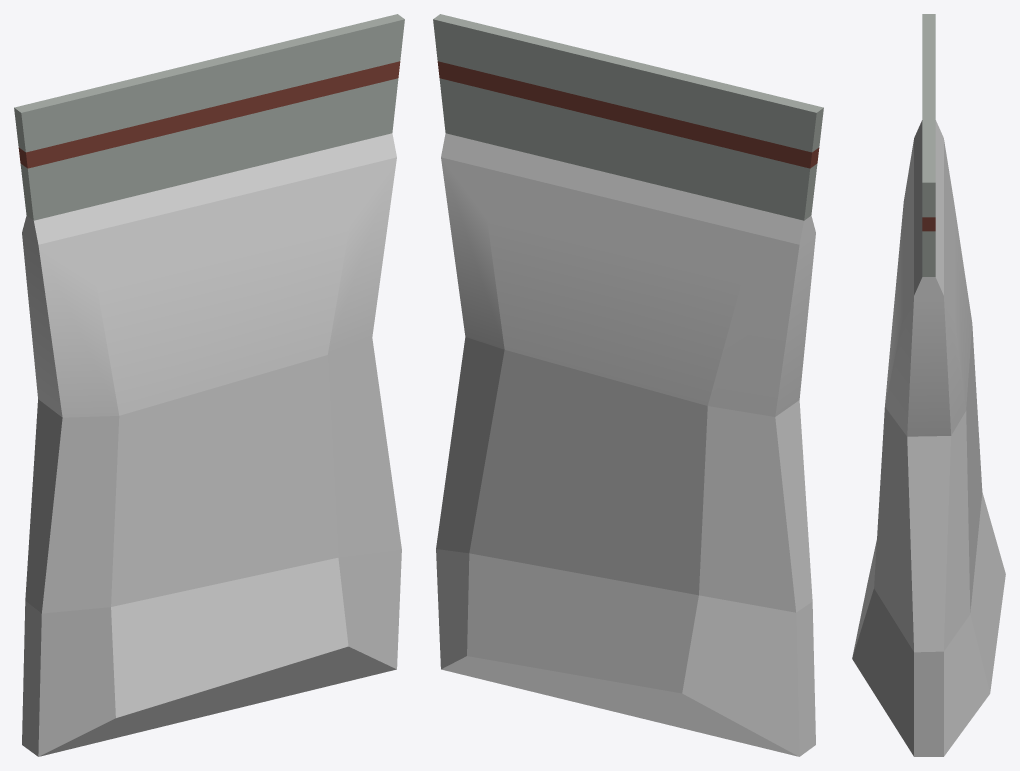
File: SM_Prop_Evidence_Bag_01.fbx
The picture shows the model from 3 angles, left to right: view 1: azimuth 30°, elevation 25°; view 2: azimuth 150°, elevation 25°; view 3: azimuth 270°, elevation 25°; orthographic projection. The views are drawn at different scales.
Visible parts, largest first — view 1: SM_Prop_Evidence_Bag_01; view 2: SM_Prop_Evidence_Bag_01; view 3: SM_Prop_Evidence_Bag_01.
Part boxes in pixels (x1=…): SM_Prop_Evidence_Bag_01: x1=14, y1=14, x2=404, y2=756; SM_Prop_Evidence_Bag_01: x1=433, y1=14, x2=823, y2=756; SM_Prop_Evidence_Bag_01: x1=852, y1=14, x2=1005, y2=756.
Bounding box in the file's own units: 6.72 × 10.78 × 2.59.
